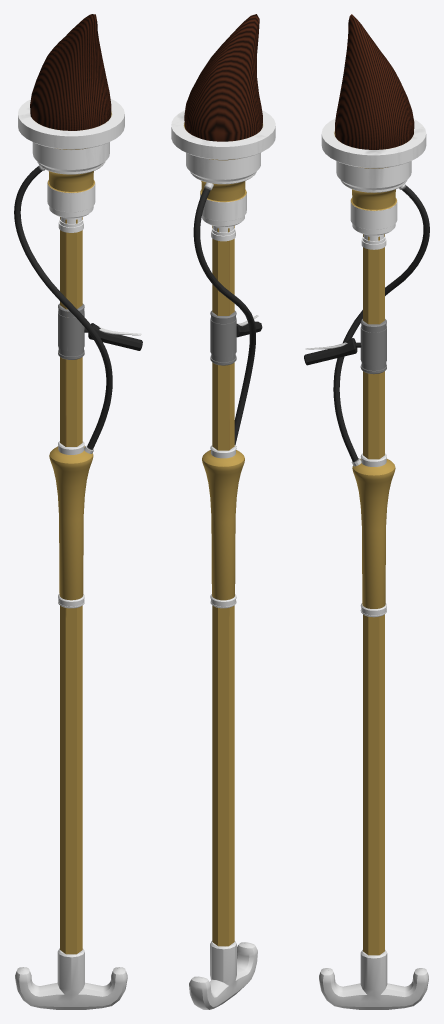
3 renders of one model, left to right at view 1: azimuth 90°, elevation 25°; view 2: azimuth 150°, elevation 25°; view 3: azimuth 270°, elevation 25°, orthographic. The views are drawn at different scales.
Parts seen in each view (by area): view 1: Cube.015_Baked; view 2: Cube.015_Baked; view 3: Cube.015_Baked.
Boxes of the visible parts, x1,y1,x2,y2 form: Cube.015_Baked: (14,14,142,1009); Cube.015_Baked: (171,14,275,1009); Cube.015_Baked: (304,14,429,1009).
Size of the model in its own units: 35.28 by 366 by 42.44.
1 material, 1 textured.
